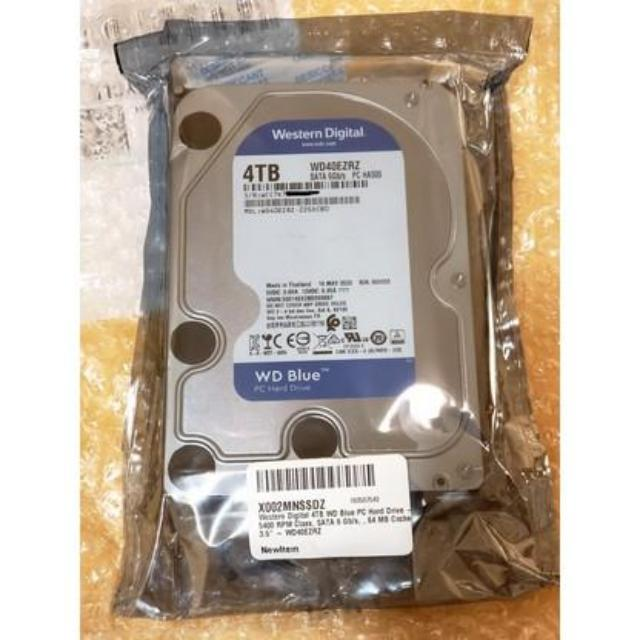DISK: (170, 85, 482, 492)
